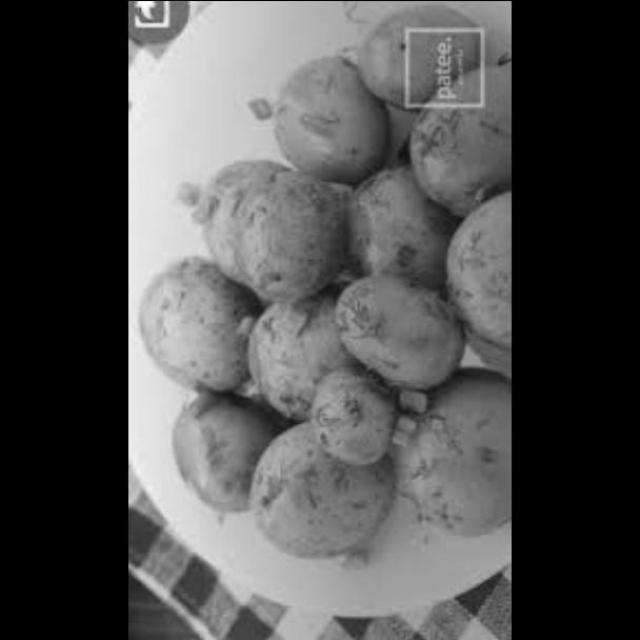potato: (242, 406, 415, 560), (392, 356, 511, 537), (188, 162, 338, 298), (154, 376, 284, 523), (392, 48, 511, 208), (328, 140, 443, 289), (132, 262, 255, 399), (327, 269, 456, 384), (423, 179, 510, 347), (270, 52, 381, 182), (357, 1, 487, 104), (305, 360, 398, 474), (242, 287, 324, 414)
